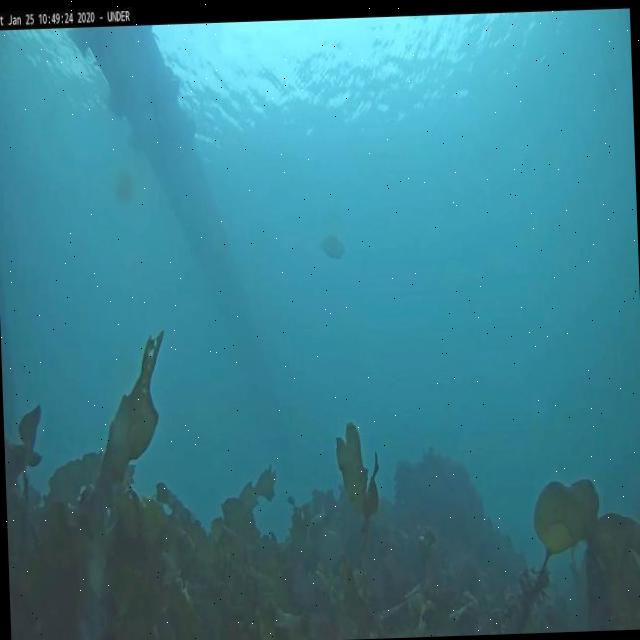fish: (318, 232, 347, 259)
